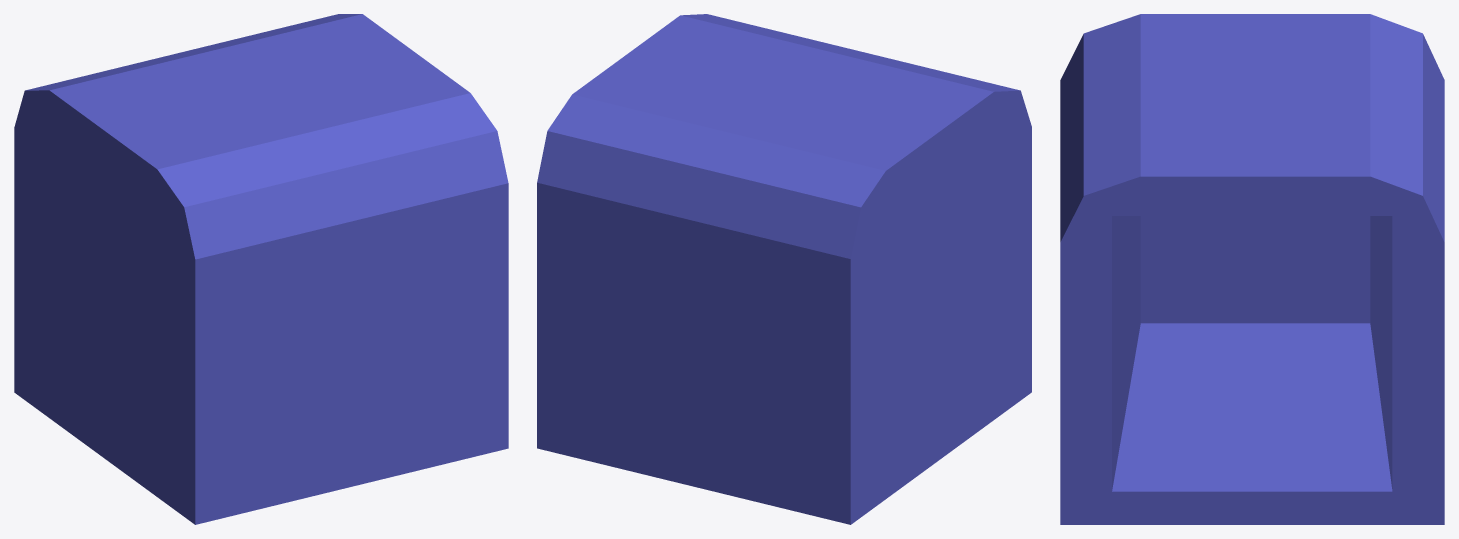
Rendered from hassyadai.fbx.
3 renders of one model, left to right at view 1: azimuth 30°, elevation 25°; view 2: azimuth 150°, elevation 25°; view 3: azimuth 270°, elevation 25°, orthographic. The views are drawn at different scales.
Visible parts, largest first — view 1: Cube; view 2: Cube; view 3: Cube.
Boxes of the visible parts, x1,y1,x2,y2 form: Cube: (14, 14, 508, 524); Cube: (537, 14, 1031, 524); Cube: (1060, 14, 1444, 524).
Size of the model in its own units: 509 by 509 by 509.
